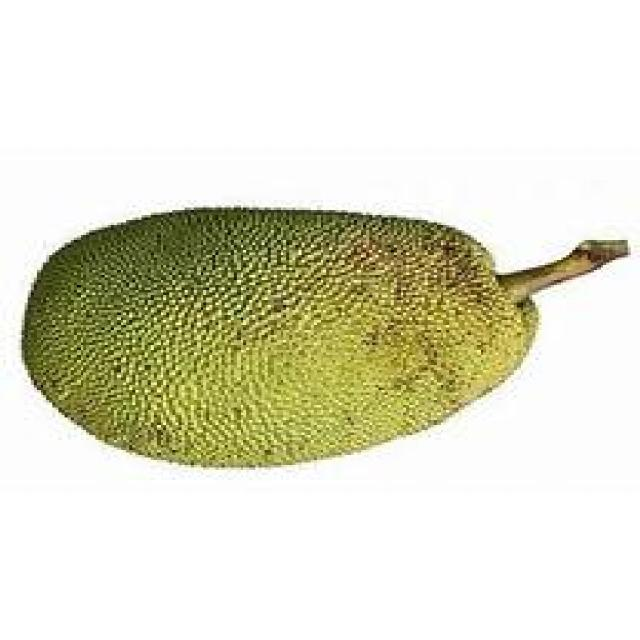Fruit: (191, 190, 554, 490)
